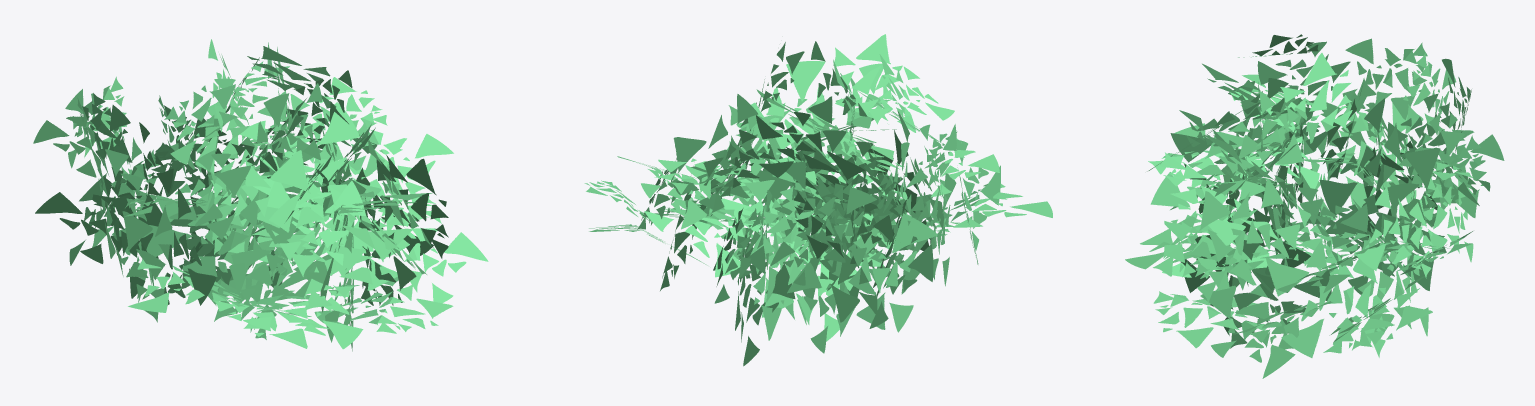
Rendered from SM_bush.fbx.
3 renders of one model, left to right at view 1: azimuth 30°, elevation 25°; view 2: azimuth 150°, elevation 25°; view 3: azimuth 270°, elevation 25°, orthographic. The views are drawn at different scales.
Visible parts, largest first — view 1: bush; view 2: bush; view 3: bush.
Part boxes in pixels (x1,y1,x2,y2): bush: [33, 39, 488, 351]; bush: [584, 34, 1052, 366]; bush: [1125, 34, 1504, 378].
Size of the model in its own units: 281 by 205 by 239.
